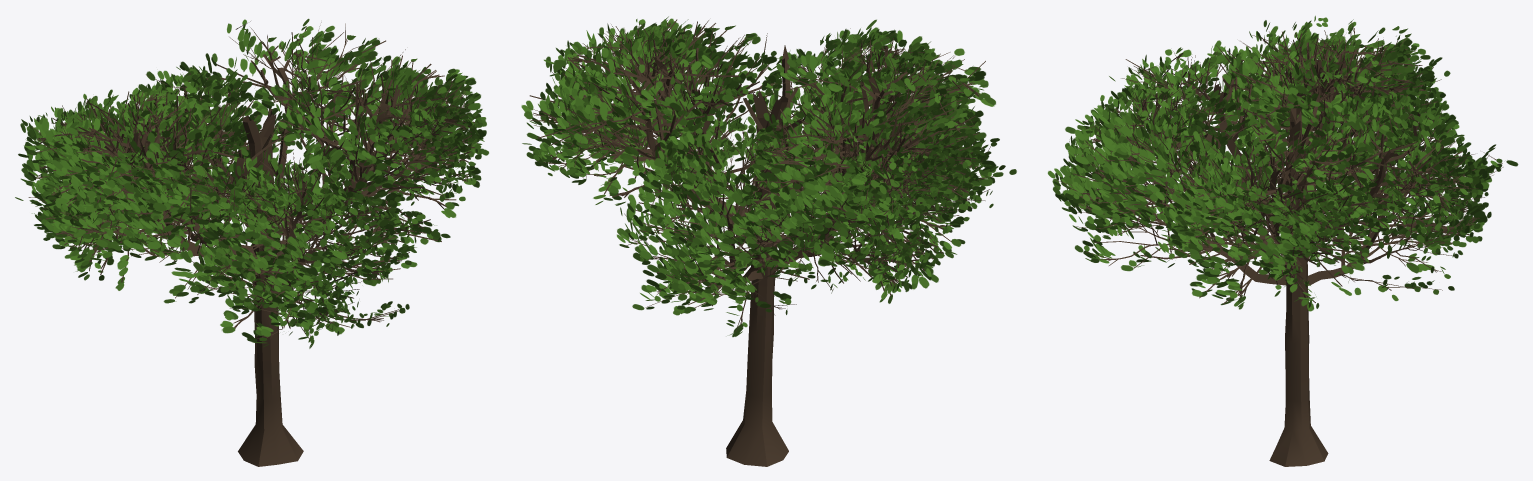
The picture shows the model from 3 angles, left to right: view 1: azimuth 30°, elevation 25°; view 2: azimuth 150°, elevation 25°; view 3: azimuth 270°, elevation 25°; orthographic projection. The views are drawn at different scales.
Visible parts, largest first — view 1: oak 01.001_trunk_Mat.001_0.092; view 2: oak 01.001_trunk_Mat.001_0.092; view 3: oak 01.001_trunk_Mat.001_0.092.
Boxes of the visible parts, x1,y1,x2,y2 form: oak 01.001_trunk_Mat.001_0.092: [15, 18, 488, 466]; oak 01.001_trunk_Mat.001_0.092: [521, 16, 1016, 466]; oak 01.001_trunk_Mat.001_0.092: [1047, 15, 1518, 466].
Bounding box in the file's own units: 6.5 × 5.11 × 6.15.
Materials: 2 (1 with a texture image).
